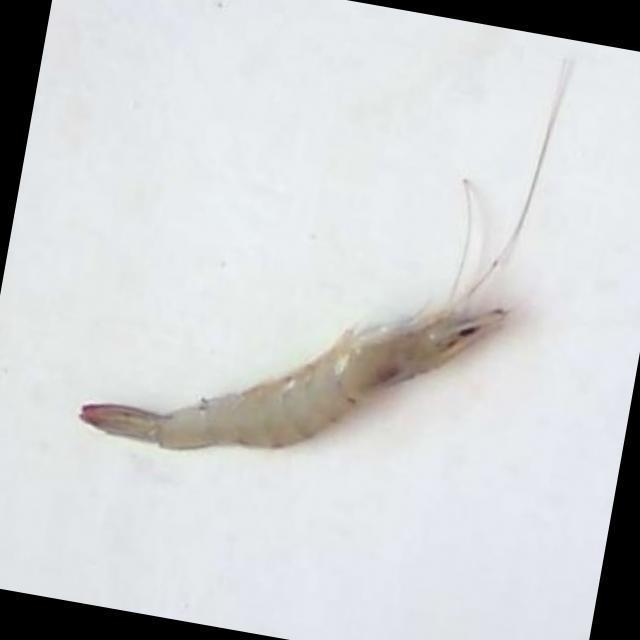shrimp: (79, 310, 505, 450)
